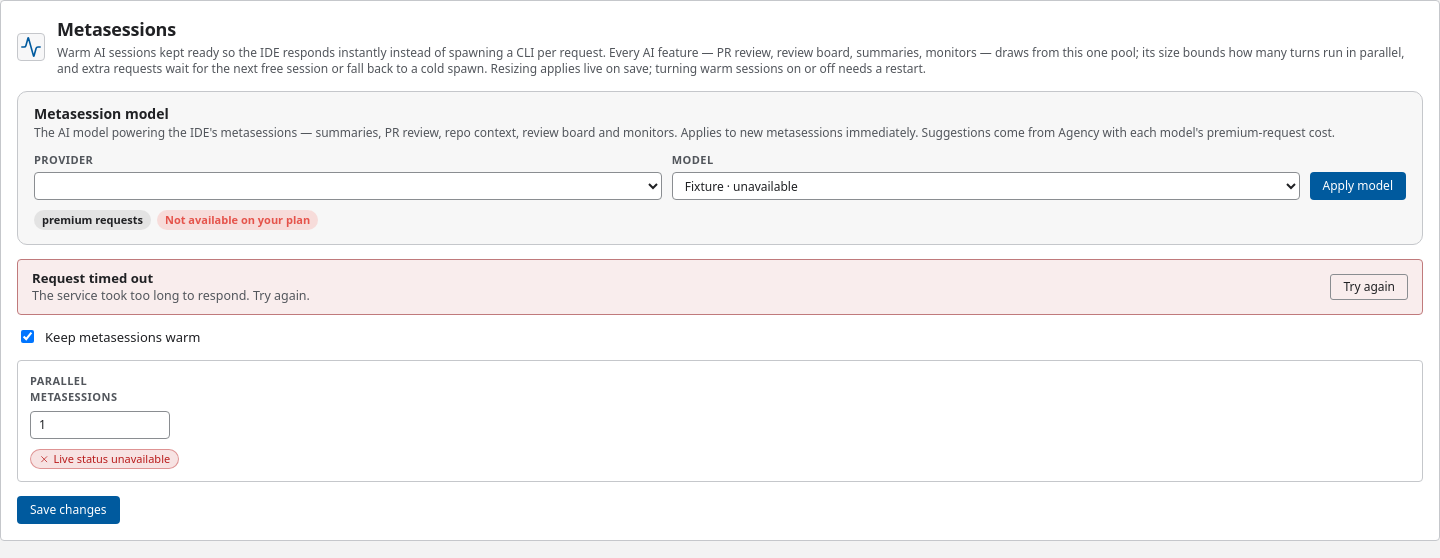
it: surfaces a failed live pool request and recovers without misreporting that a saved pool needs saving
The image size is (1440, 558).
Expected: the text "Live status unavailable" is shown, [53,452,170,466]
What coordinates should you click on to do the following:
click the button "Try again"
I would click on:
 (1369, 287)
Its box is [1330,274,1408,300].
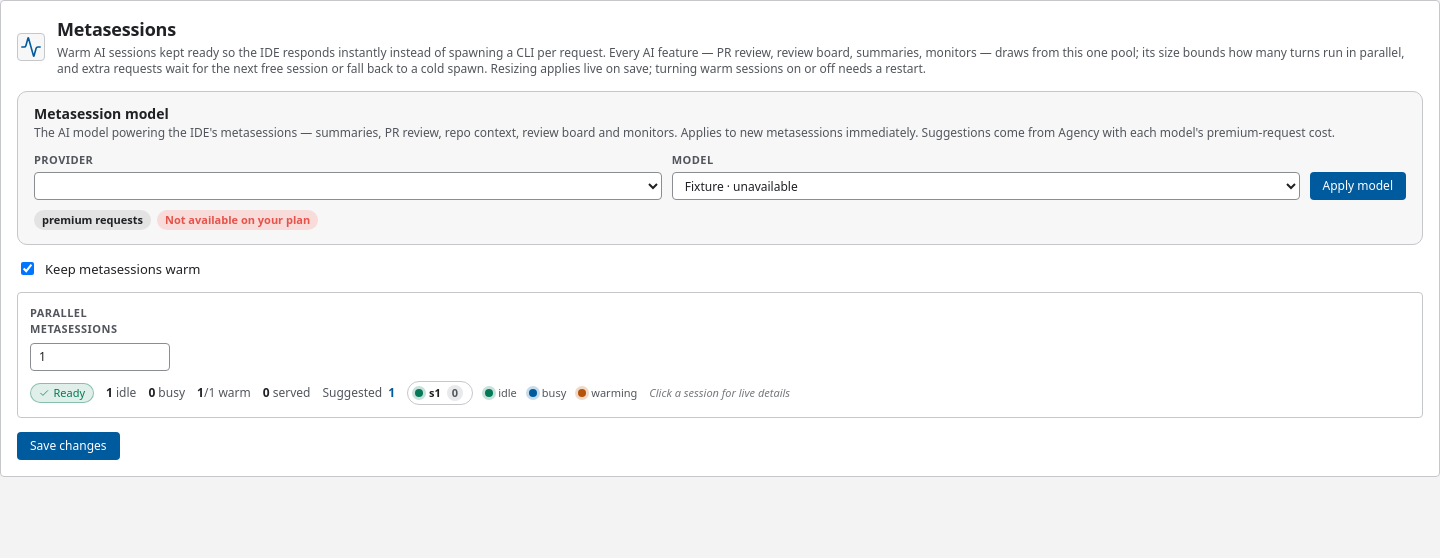
Result: the text "Ready" is shown at [53,386,85,400]
